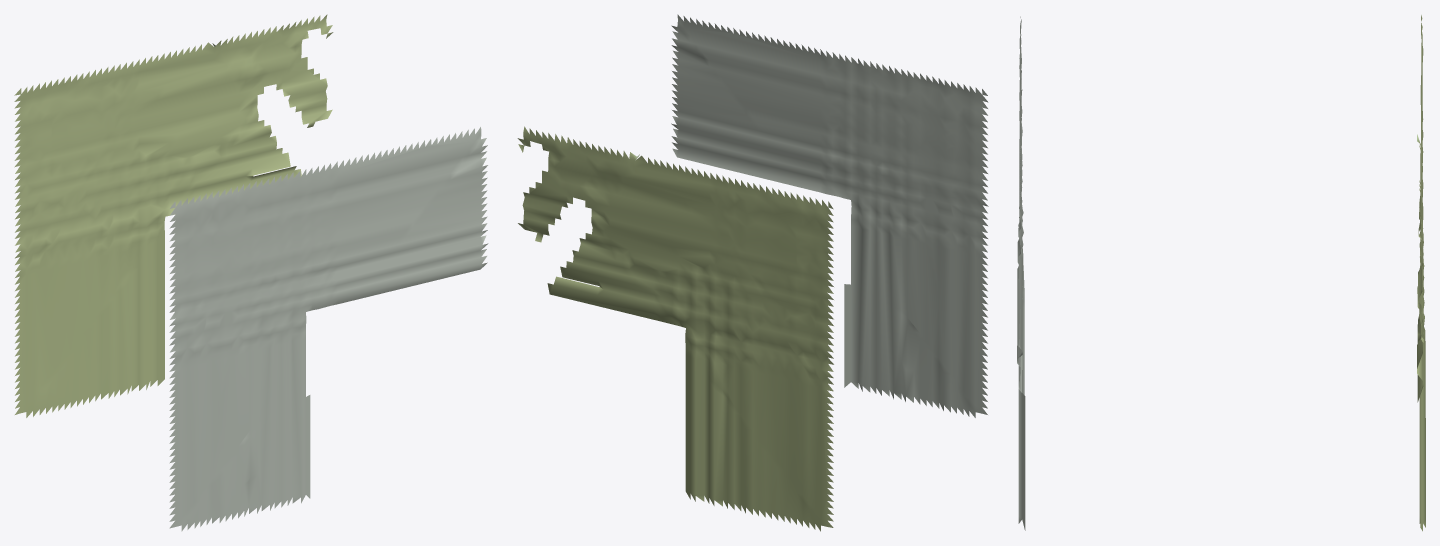
The model's file is tile_7e4ccbd5fe0e_0_0_-1_0_lod1.glb.
The picture shows the model from 3 angles, left to right: view 1: azimuth 30°, elevation 25°; view 2: azimuth 150°, elevation 25°; view 3: azimuth 270°, elevation 25°; orthographic projection. The views are drawn at different scales.
Size of the model in its own units: 4.08 by 4.08 by 3.51.
